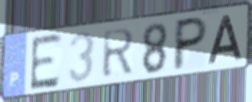3: (67, 29, 98, 86)
8: (140, 21, 169, 75)
A: (206, 14, 245, 66)
E: (29, 31, 64, 94)
P: (170, 15, 210, 74)
R: (101, 27, 137, 81)
